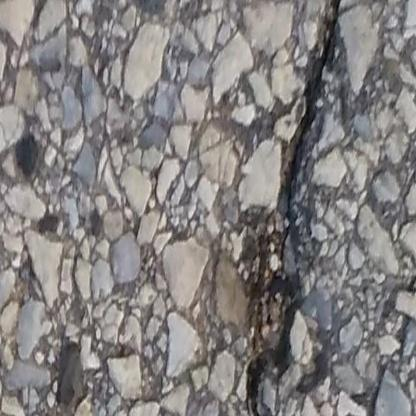Cracks: (241, 0, 372, 416)
